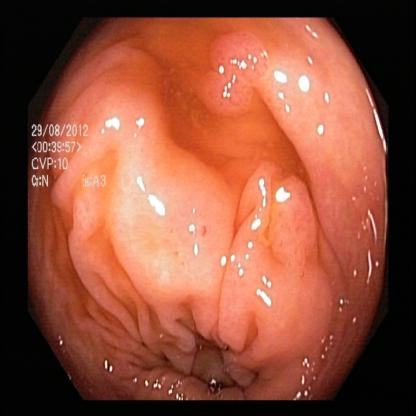Labels: (28, 118, 110, 194)
Polyps: (198, 35, 266, 121)
